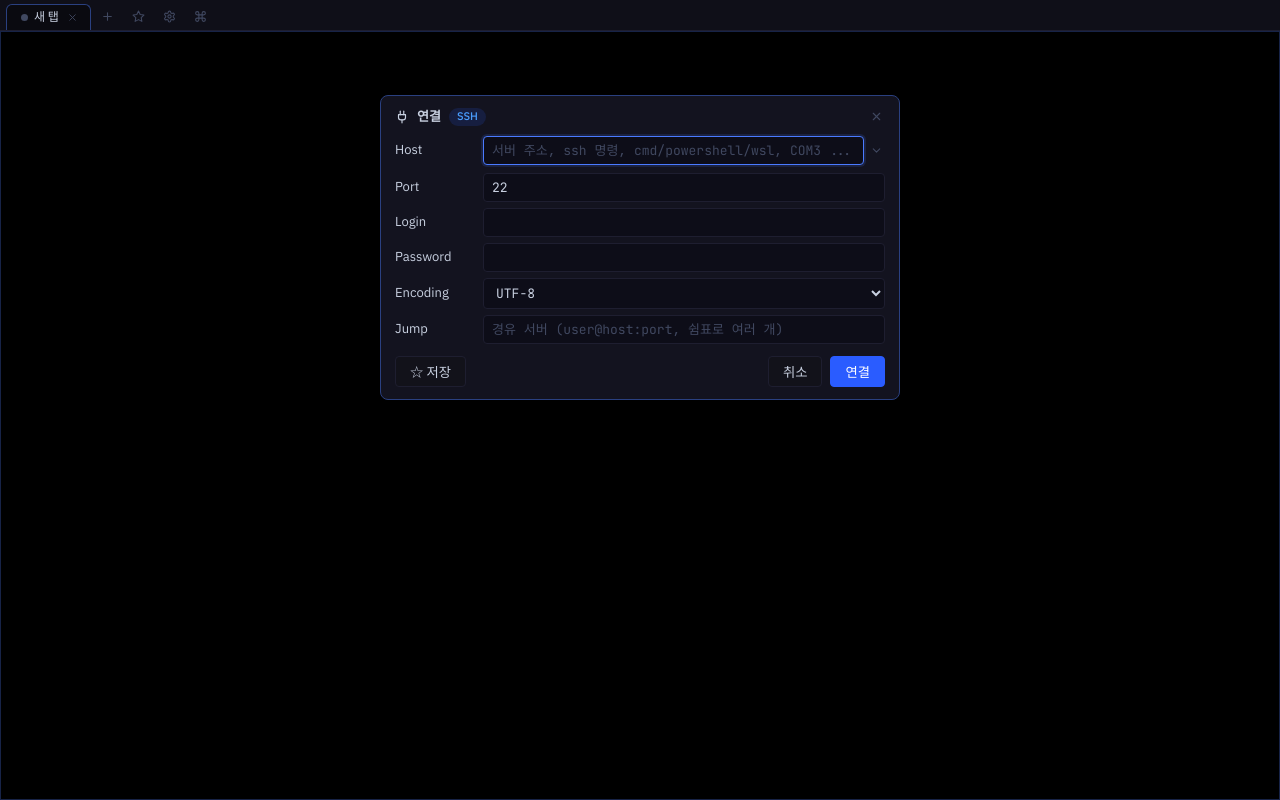
Test case: 세션 관리자 (SM) › SM-08: 접속 — 창 닫고 지금 칸에서 세션 이름으로 연결
The width and height of the screenshot is (1280, 800).
Expected: the field labelled "Host" is shown, [483,136,864,165]
Press H in the element showing "새 탭 연결 SSH Host Port Login Password Encoding Jump ☆ 저장 취소 연결"
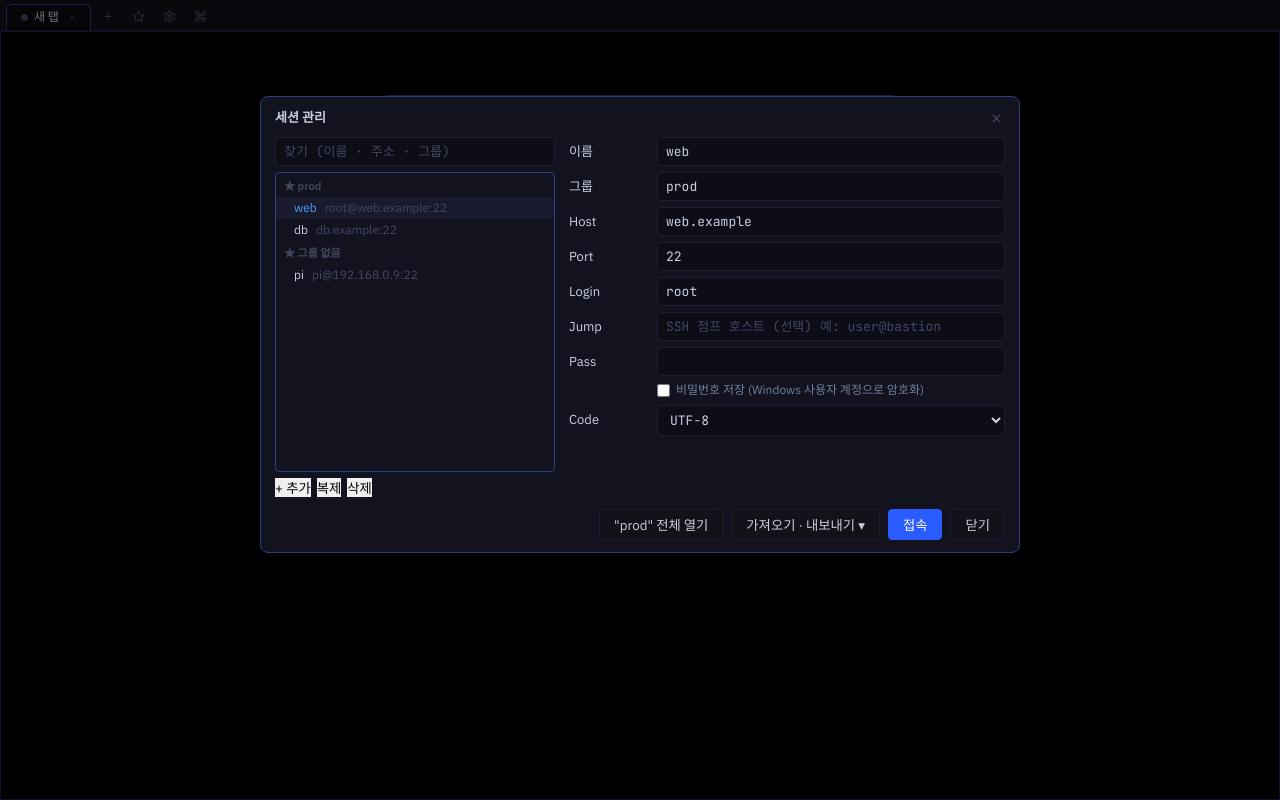
Now the option "web root@web.example:22" is shown
Double-click the option "web root@web.example:22" at (415, 208), box [276,197,554,219]
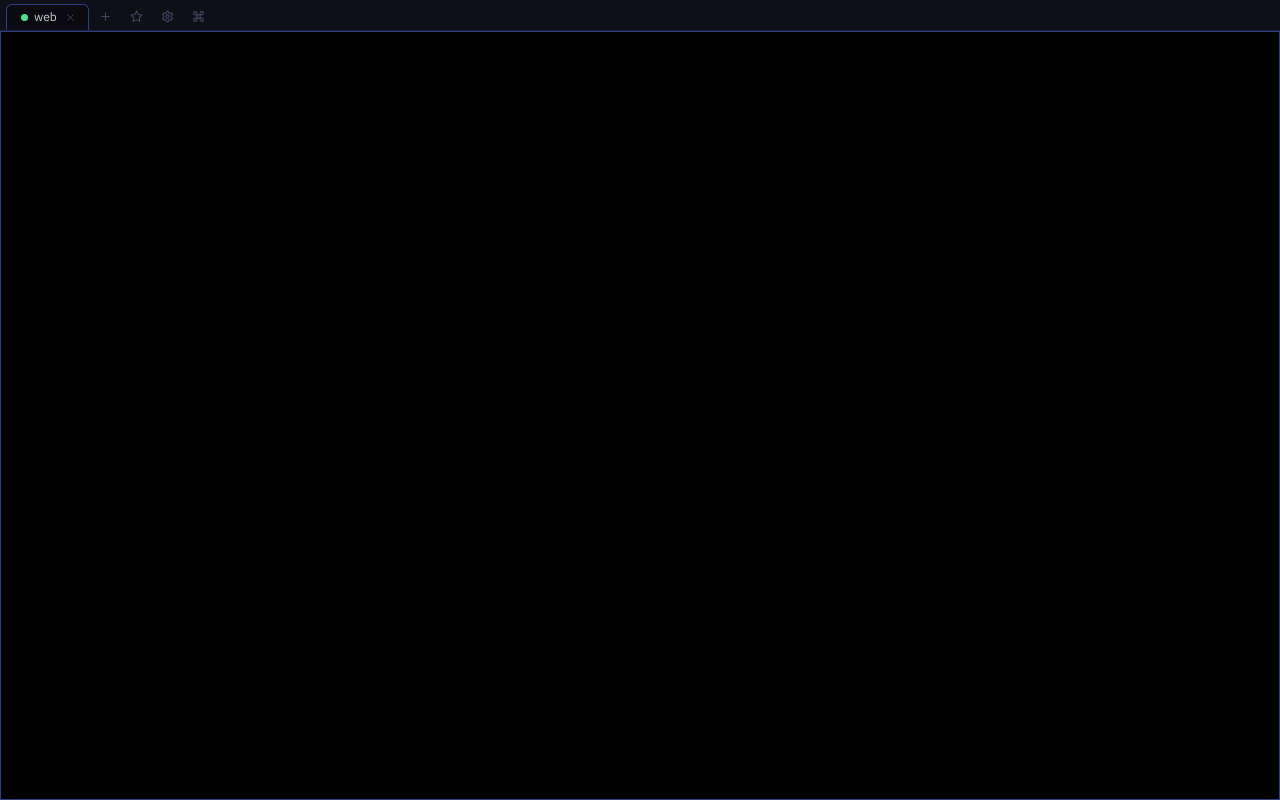
Now the text "세션 관리" is gone
Now the text "web" is shown, box [34,9,57,26]
